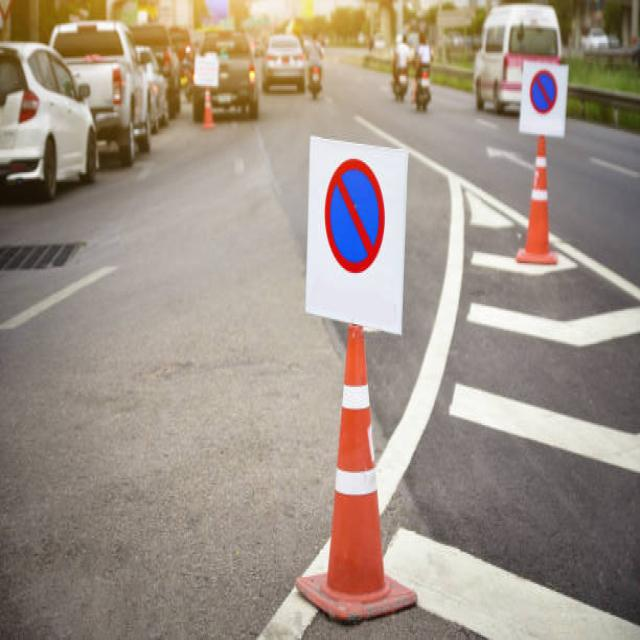Traffic Cone: (279, 285, 445, 640), (503, 127, 580, 329)
